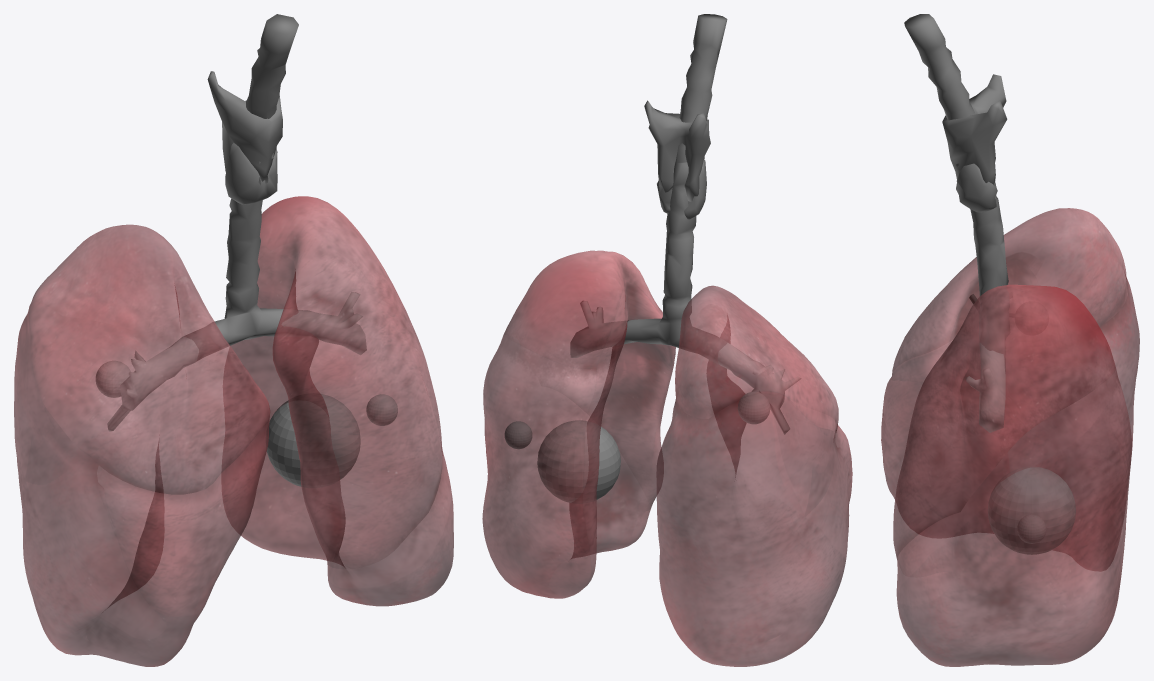
The model's file is poumon.obj.
The picture shows the model from 3 angles, left to right: view 1: azimuth 30°, elevation 25°; view 2: azimuth 150°, elevation 25°; view 3: azimuth 270°, elevation 25°; orthographic projection. The views are drawn at different scales.
Parts seen in each view (by area): view 1: thlow, thup, Sphere.001, Sphere.002, Sphere; view 2: thlow, thup, Sphere.001, Sphere.002, Sphere; view 3: thlow, thup, Sphere.001, Sphere.
Part boxes in pixels (x1,y1,x2,y2): thlow: [14, 196, 453, 666]; thup: [107, 14, 366, 431]; Sphere.001: [266, 394, 360, 487]; Sphere.002: [95, 360, 130, 397]; Sphere: [366, 394, 397, 425]; thlow: [482, 250, 852, 666]; thup: [570, 14, 801, 434]; Sphere.001: [537, 420, 620, 503]; Sphere.002: [737, 391, 770, 424]; Sphere: [504, 421, 532, 449]; thlow: [881, 208, 1139, 666]; thup: [904, 14, 1009, 432]; Sphere.001: [987, 466, 1075, 554]; Sphere: [1017, 514, 1046, 543].
Bounding box in the file's own units: 2.64 × 4.36 × 1.71.
2 materials, 1 textured.
